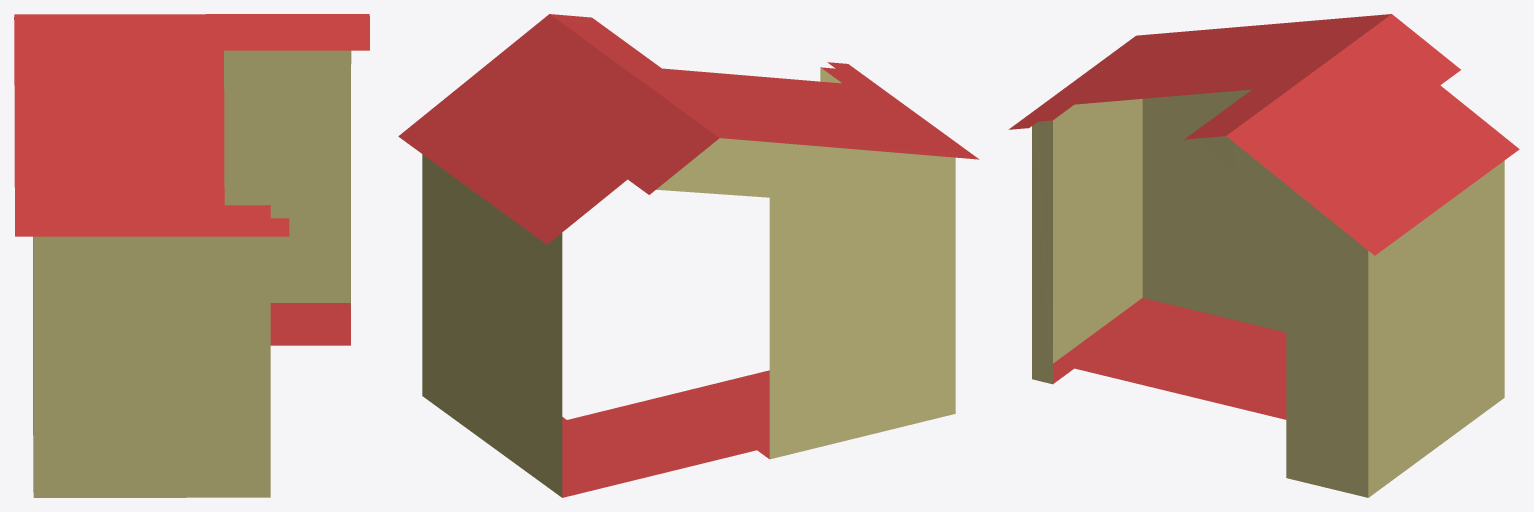
3 views of the same model, side by side, from view 1: azimuth 30°, elevation 25°; view 2: azimuth 150°, elevation 25°; view 3: azimuth 270°, elevation 25° (orthographic). The views are drawn at different scales.
Size of the model in its own units: 14.98 by 14.7 by 10.65.
